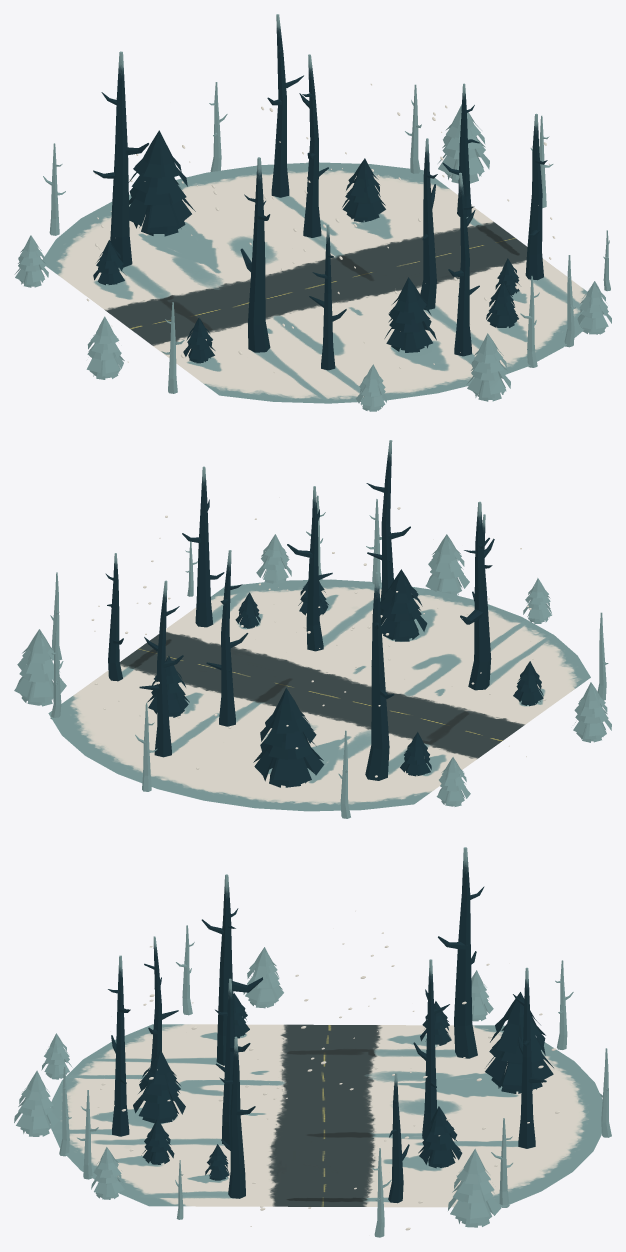
File: snowy_road_v3-modif.glb
3 renders of one model, top to bottom at view 1: azimuth 30°, elevation 25°; view 2: azimuth 150°, elevation 25°; view 3: azimuth 270°, elevation 25°, orthographic. The views are drawn at different scales.
Visible parts, largest first — view 1: snowyroad_mesh; view 2: snowyroad_mesh; view 3: snowyroad_mesh.
Part boxes in pixels (x1,y1,x2,y2): snowyroad_mesh: (14, 14, 611, 411); snowyroad_mesh: (14, 440, 611, 818); snowyroad_mesh: (14, 847, 611, 1237).
Bounding box in the file's own units: 22.48 × 9.7 × 22.71.
Materials: 2 (2 with a texture image).
